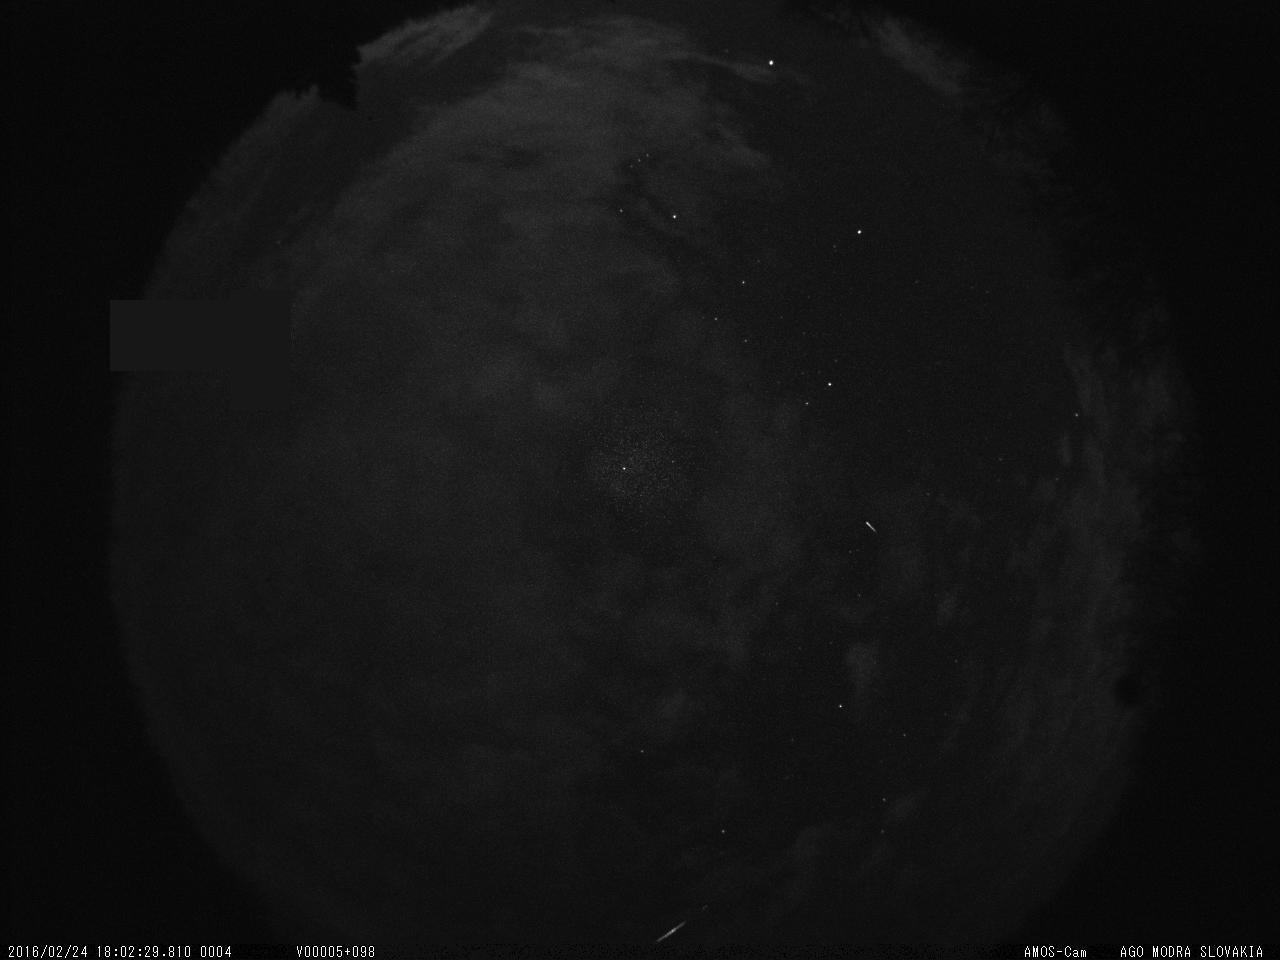meteor: (857, 515, 880, 537)
satelite: (644, 904, 699, 955)
